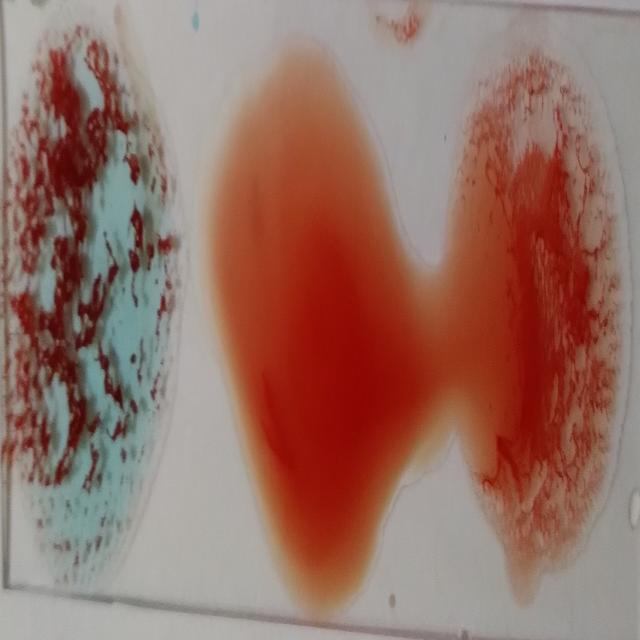A: (9, 38, 156, 554)
D: (518, 70, 620, 566)
